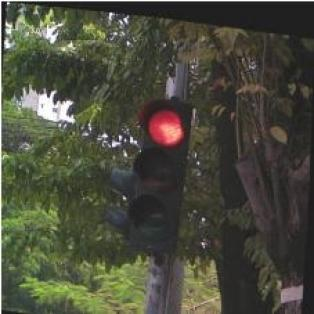Semaforo Rojo: (130, 91, 195, 252)
